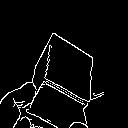cube: (28, 30, 97, 128)
